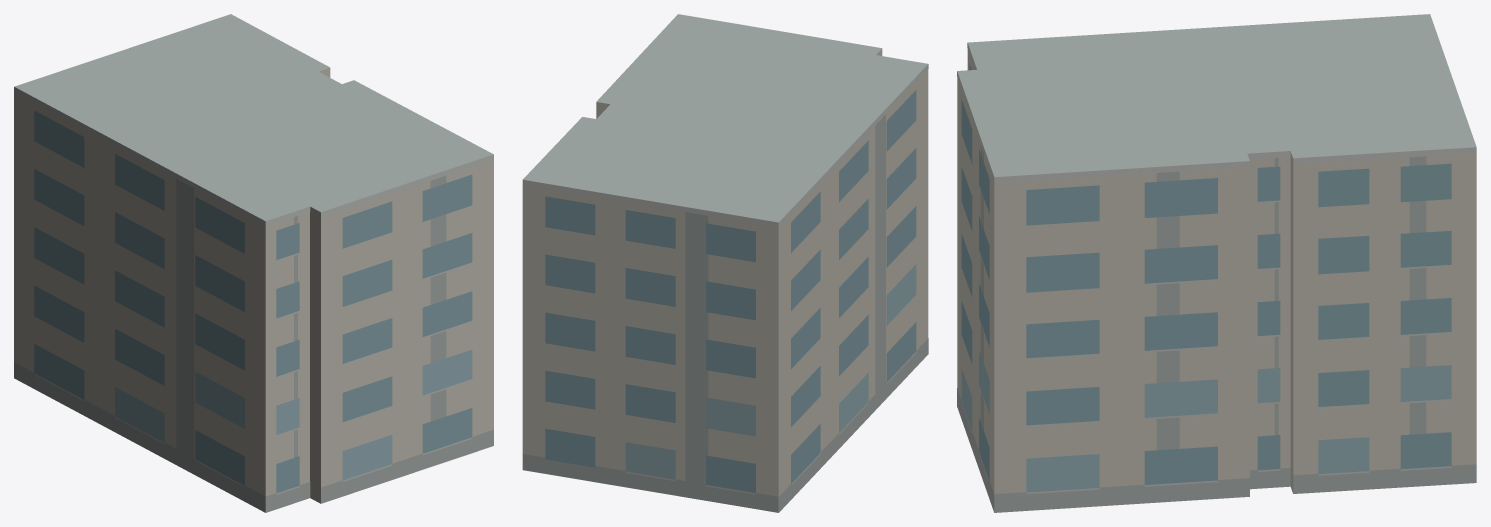
Rendered from survey-upis-32805855.glb.
3 views of the same model, side by side, from view 1: azimuth 30°, elevation 25°; view 2: azimuth 150°, elevation 25°; view 3: azimuth 270°, elevation 25° (orthographic). The views are drawn at different scales.
Parts seen in each view (by area): view 1: survey-upis-32805855.tmp; view 2: survey-upis-32805855.tmp; view 3: survey-upis-32805855.tmp.
Boxes of the visible parts, bbox=[...] form: survey-upis-32805855.tmp: bbox=[14, 14, 493, 512]; survey-upis-32805855.tmp: bbox=[522, 14, 928, 512]; survey-upis-32805855.tmp: bbox=[957, 14, 1476, 512].
Bounding box in the file's own units: 14.19 × 13.6 × 19.09.
